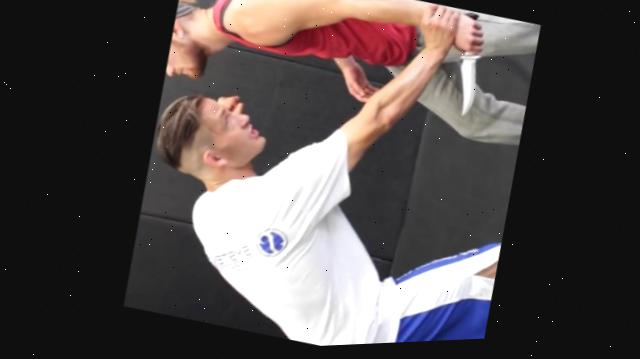long knife: (424, 10, 507, 130)
